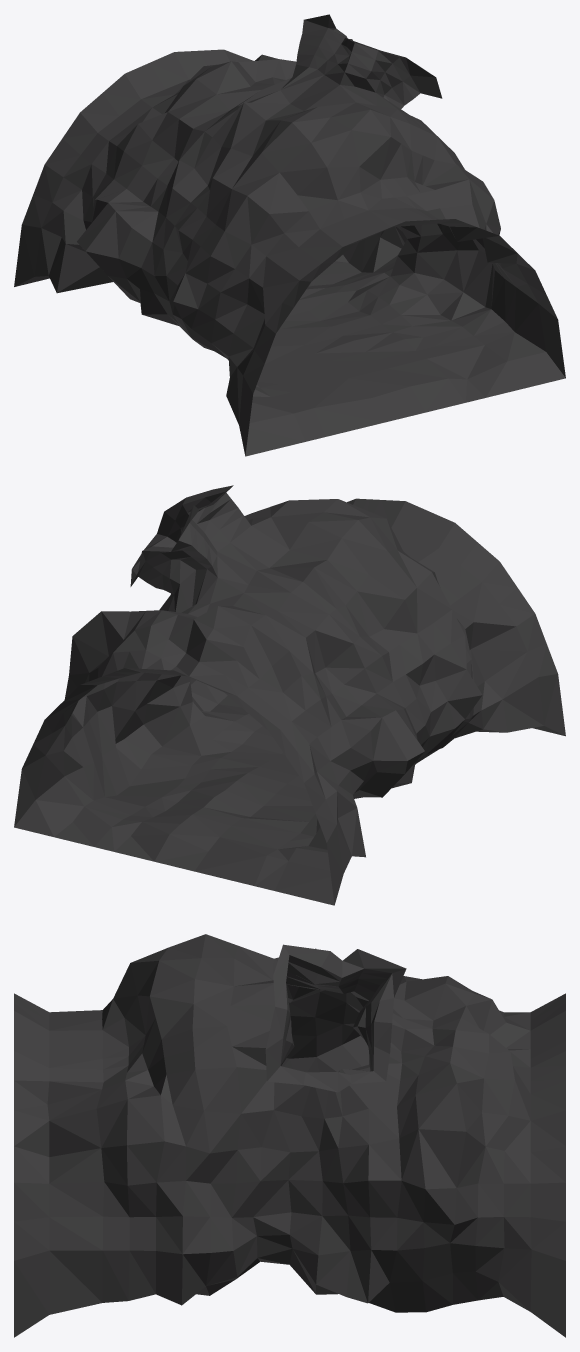
Rendered from Cave_2.fbx.
The picture shows the model from 3 angles, top to bottom: view 1: azimuth 30°, elevation 25°; view 2: azimuth 150°, elevation 25°; view 3: azimuth 270°, elevation 25°; orthographic projection. The views are drawn at different scales.
Visible parts, largest first — view 1: polySurface1211; view 2: polySurface1211; view 3: polySurface1211.
Boxes of the visible parts, left/top/right/bottom form: polySurface1211: left=14, top=14, right=565, bottom=456; polySurface1211: left=14, top=485, right=565, bottom=905; polySurface1211: left=14, top=934, right=565, bottom=1337.
Bounding box in the file's own units: 8.5 × 6.93 × 10.32.
